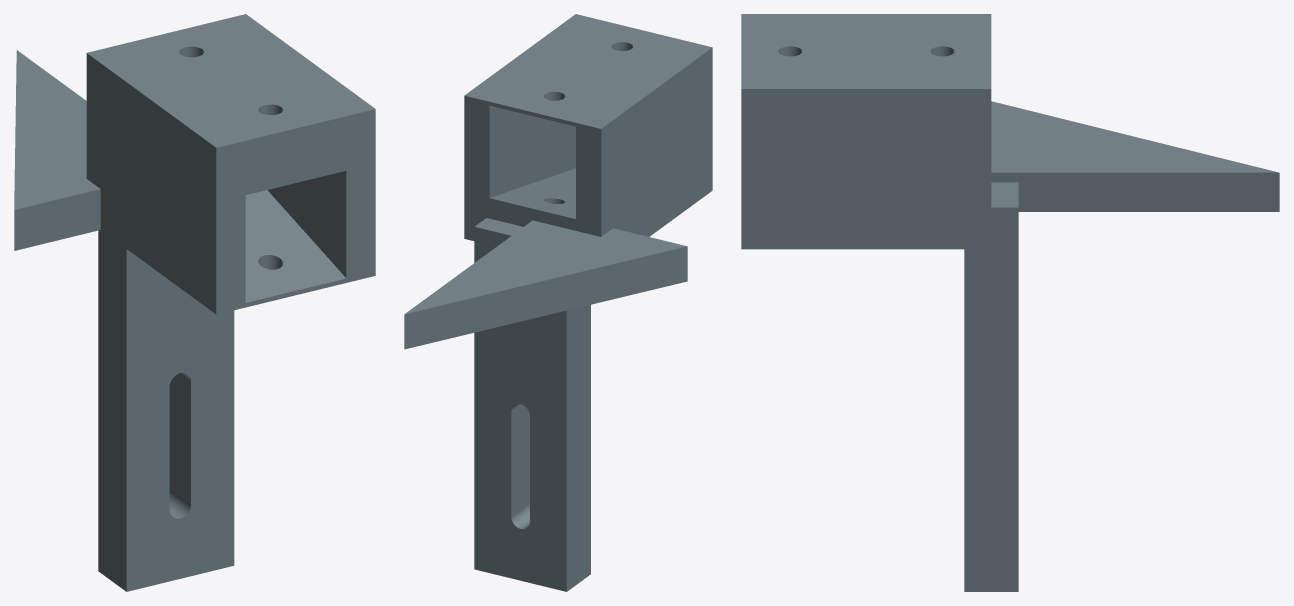
Rendered from est_soporte_cabezal.glb.
The picture shows the model from 3 angles, left to right: view 1: azimuth 30°, elevation 25°; view 2: azimuth 150°, elevation 25°; view 3: azimuth 270°, elevation 25°; orthographic projection. The views are drawn at different scales.
Visible parts, largest first — view 1: world; view 2: world; view 3: world.
Boxes of the visible parts, <box> form: world: <box>14,14,375,591</box>; world: <box>404,14,712,591</box>; world: <box>741,14,1279,591</box>.
Size of the model in its own units: 50.3 by 105 by 99.
